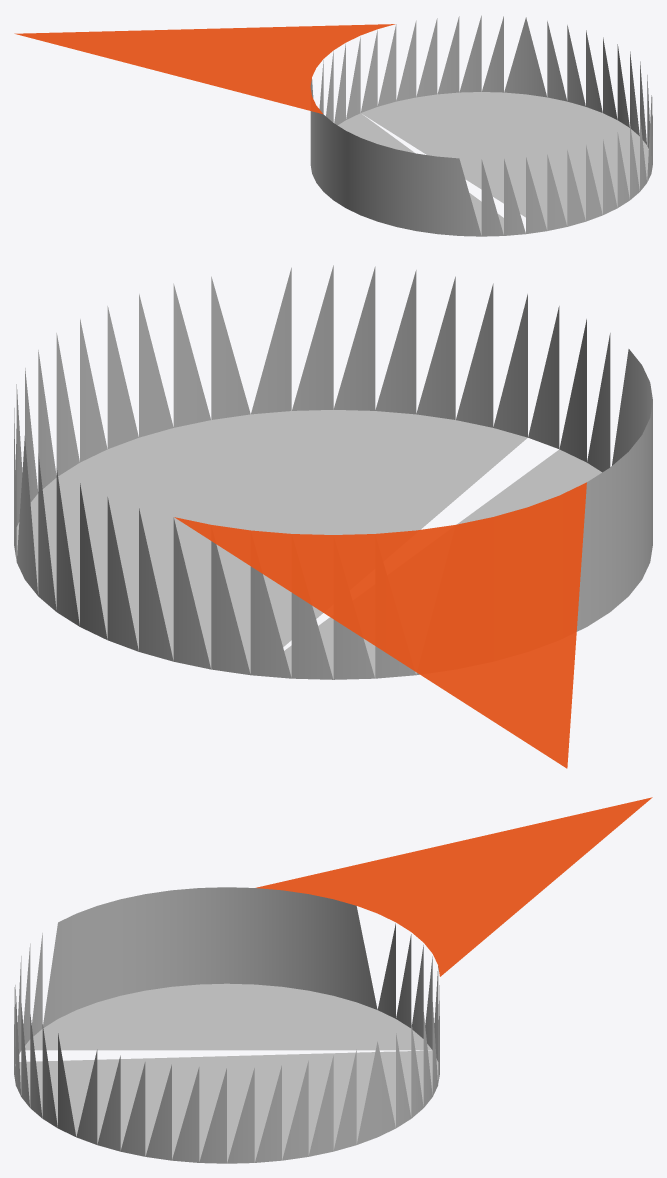
The picture shows the model from 3 angles, top to bottom: view 1: azimuth 30°, elevation 25°; view 2: azimuth 150°, elevation 25°; view 3: azimuth 270°, elevation 25°; orthographic projection. The views are drawn at different scales.
Bounding box in the file's own units: 0.1904 × 0.0317 × 0.1904.
